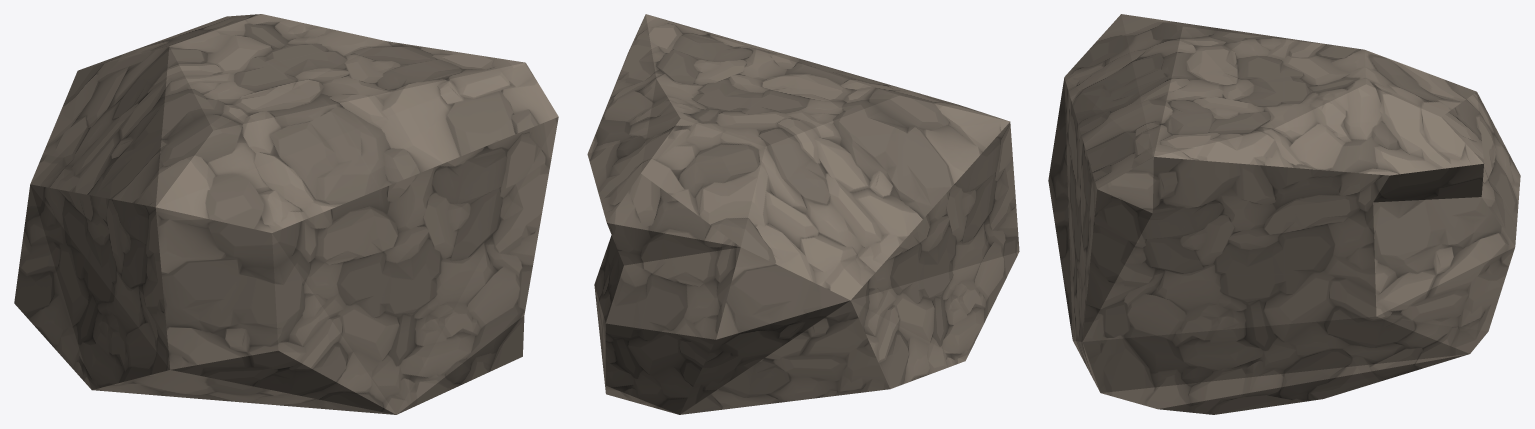
Rendered from synty-rock-02.gltf.
The picture shows the model from 3 angles, left to right: view 1: azimuth 30°, elevation 25°; view 2: azimuth 150°, elevation 25°; view 3: azimuth 270°, elevation 25°; orthographic projection. The views are drawn at different scales.
Visible parts, largest first — view 1: SM_Rock_02; view 2: SM_Rock_02; view 3: SM_Rock_02.
Boxes of the visible parts, box(x1,y1,x2,y2) form: SM_Rock_02: box(14, 14, 558, 414); SM_Rock_02: box(587, 14, 1019, 414); SM_Rock_02: box(1048, 14, 1520, 414).
Size of the model in its own units: 0.3874 by 0.288 by 0.4046.
Materials: 1 (1 with a texture image).
